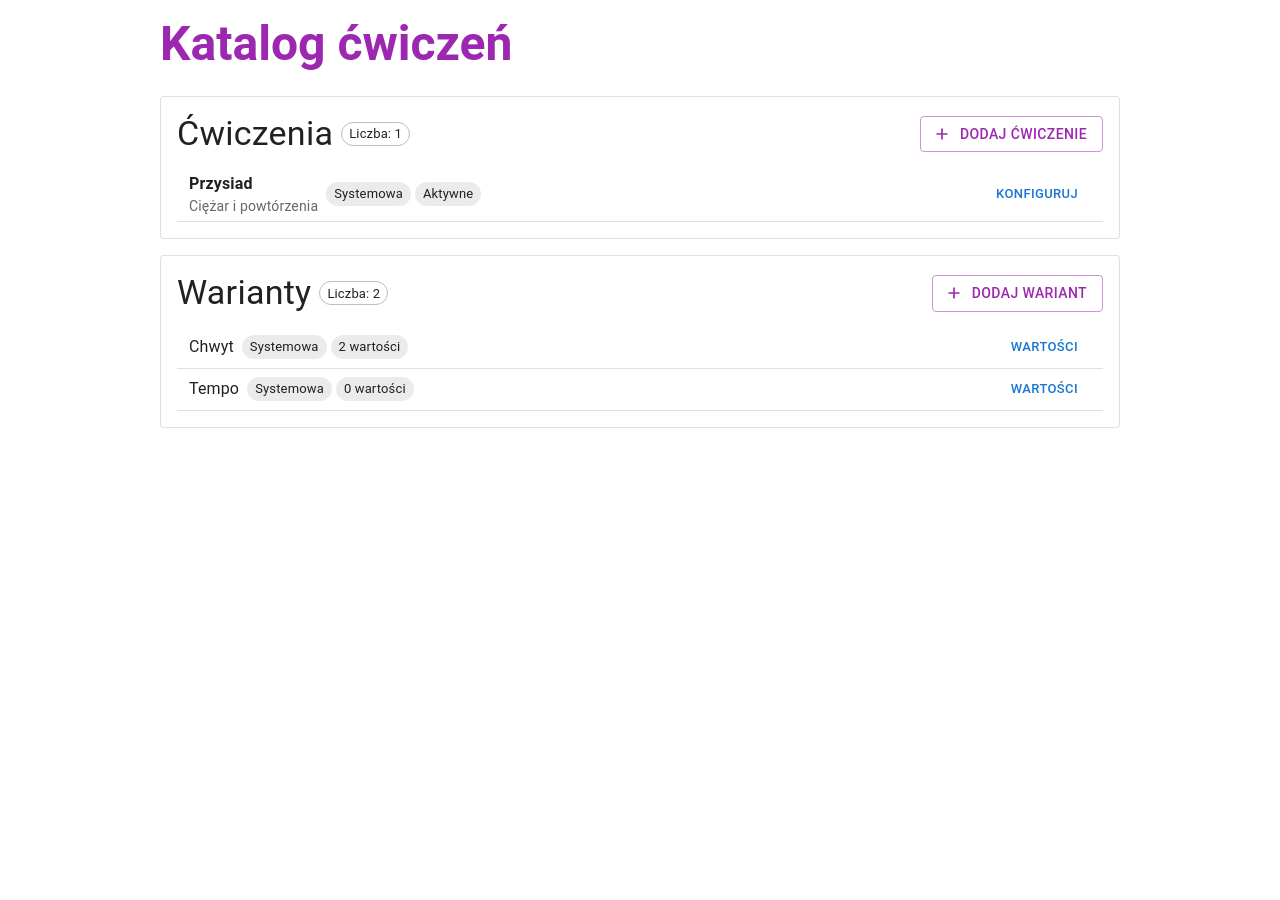
StrengthTrainingCatalogPage › pokazuje wszystkie typy ćwiczeń w formularzu
Click the button "Dodaj ćwiczenie". click: (1011, 134)
box: [920,116,1103,152]
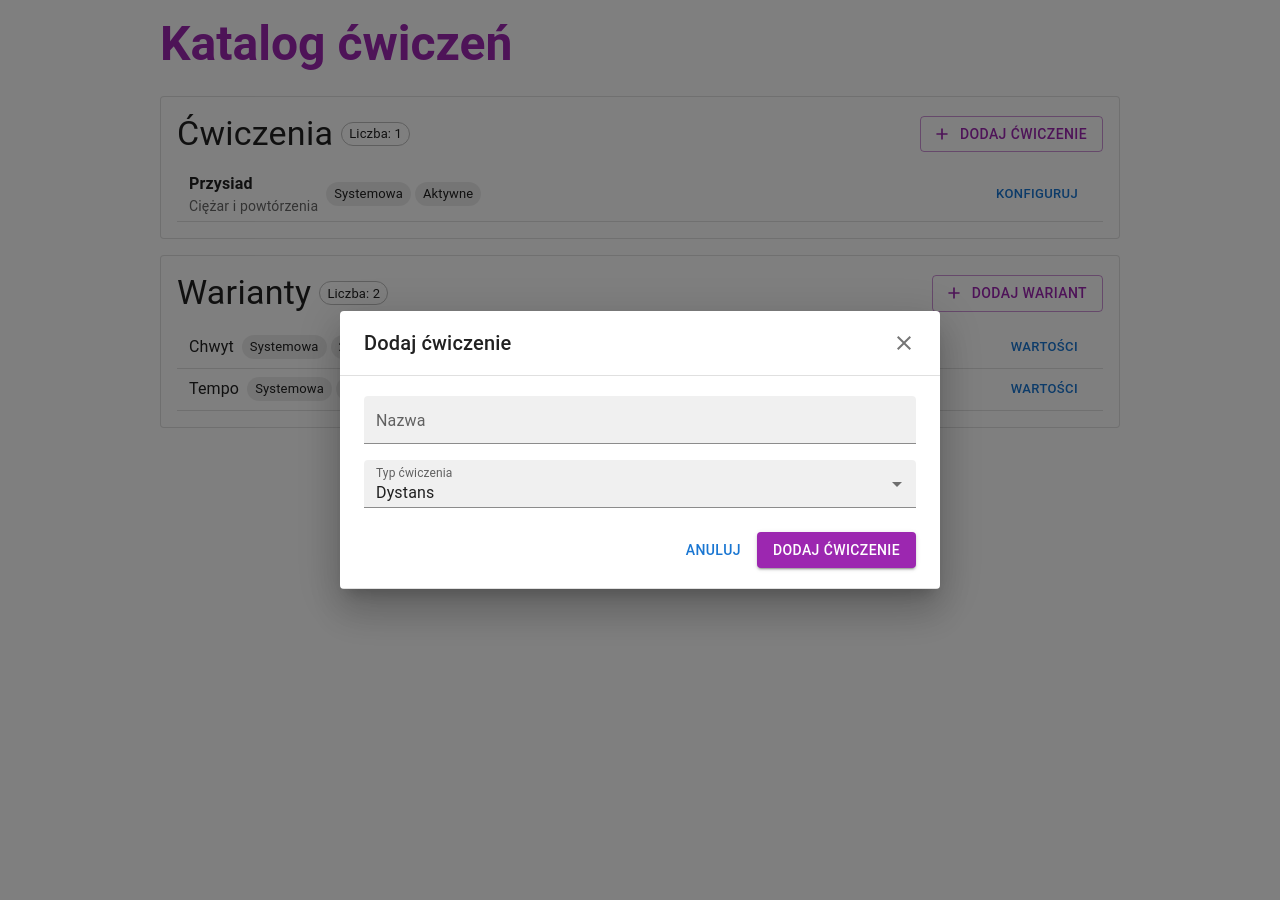
Click the dropdown named "Typ ćwiczenia". click: (405, 492)
box: [376,483,434,502]
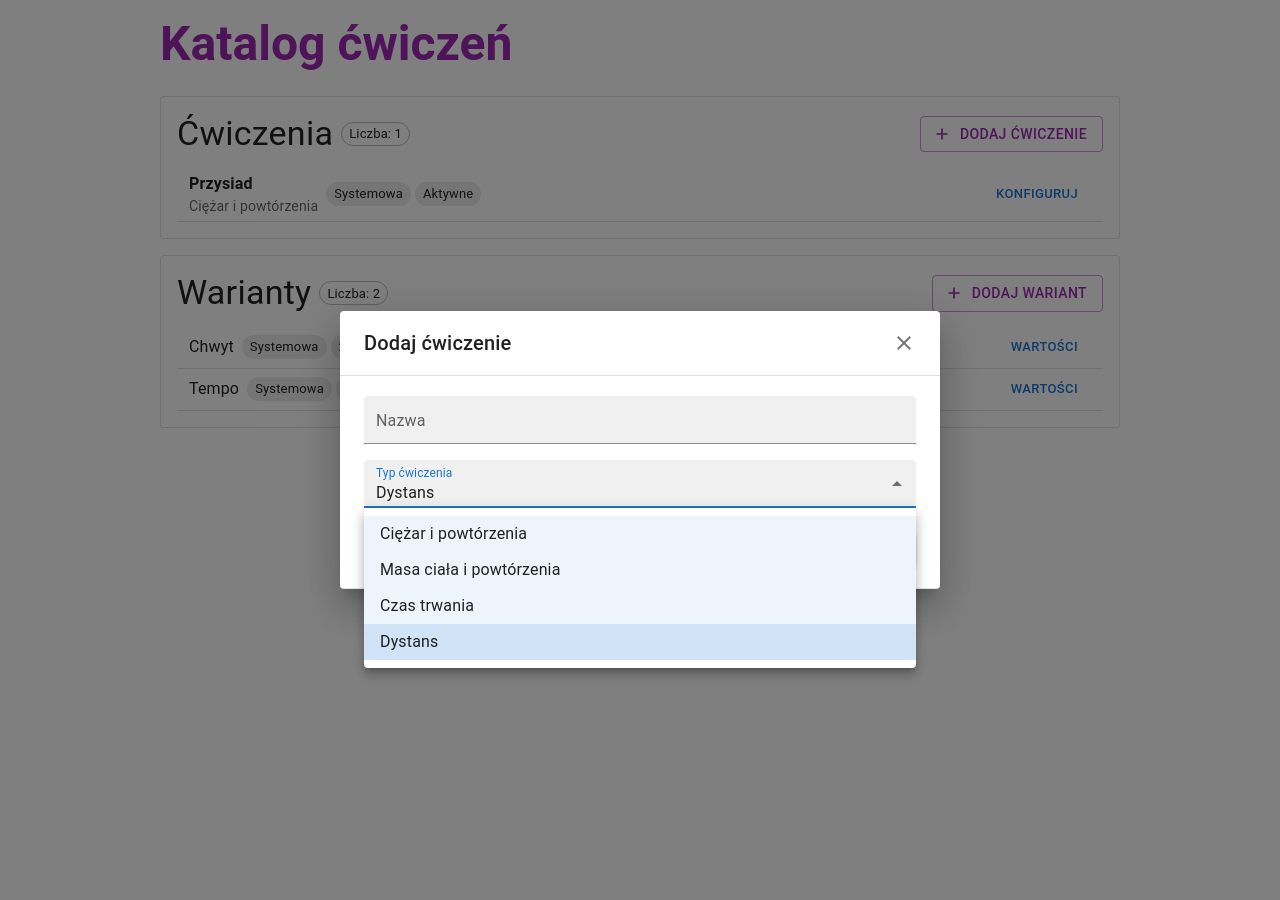
Check: the option "Ciężar i powtórzenia" is shown, box [364,516,916,552]
Check: the option "Masa ciała i powtórzenia" is shown, box [364,552,916,588]
Check: the option "Czas trwania" is shown, box [364,588,916,624]
